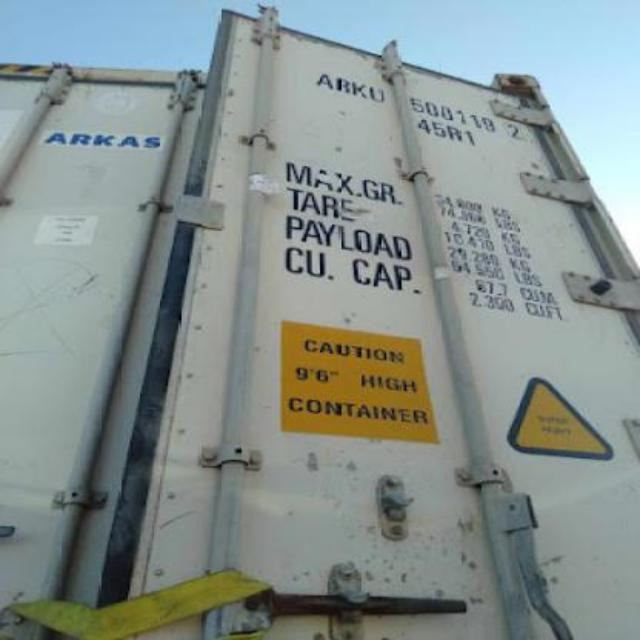0: (426, 100, 439, 118), (441, 105, 454, 118)
1: (470, 113, 482, 129), (458, 110, 466, 124)
2: (506, 124, 524, 138)
5: (411, 96, 424, 112)
9: (482, 116, 496, 132)
A: (316, 69, 332, 87)
K: (352, 81, 370, 99)
R: (334, 77, 352, 93)
U: (368, 86, 384, 102)
